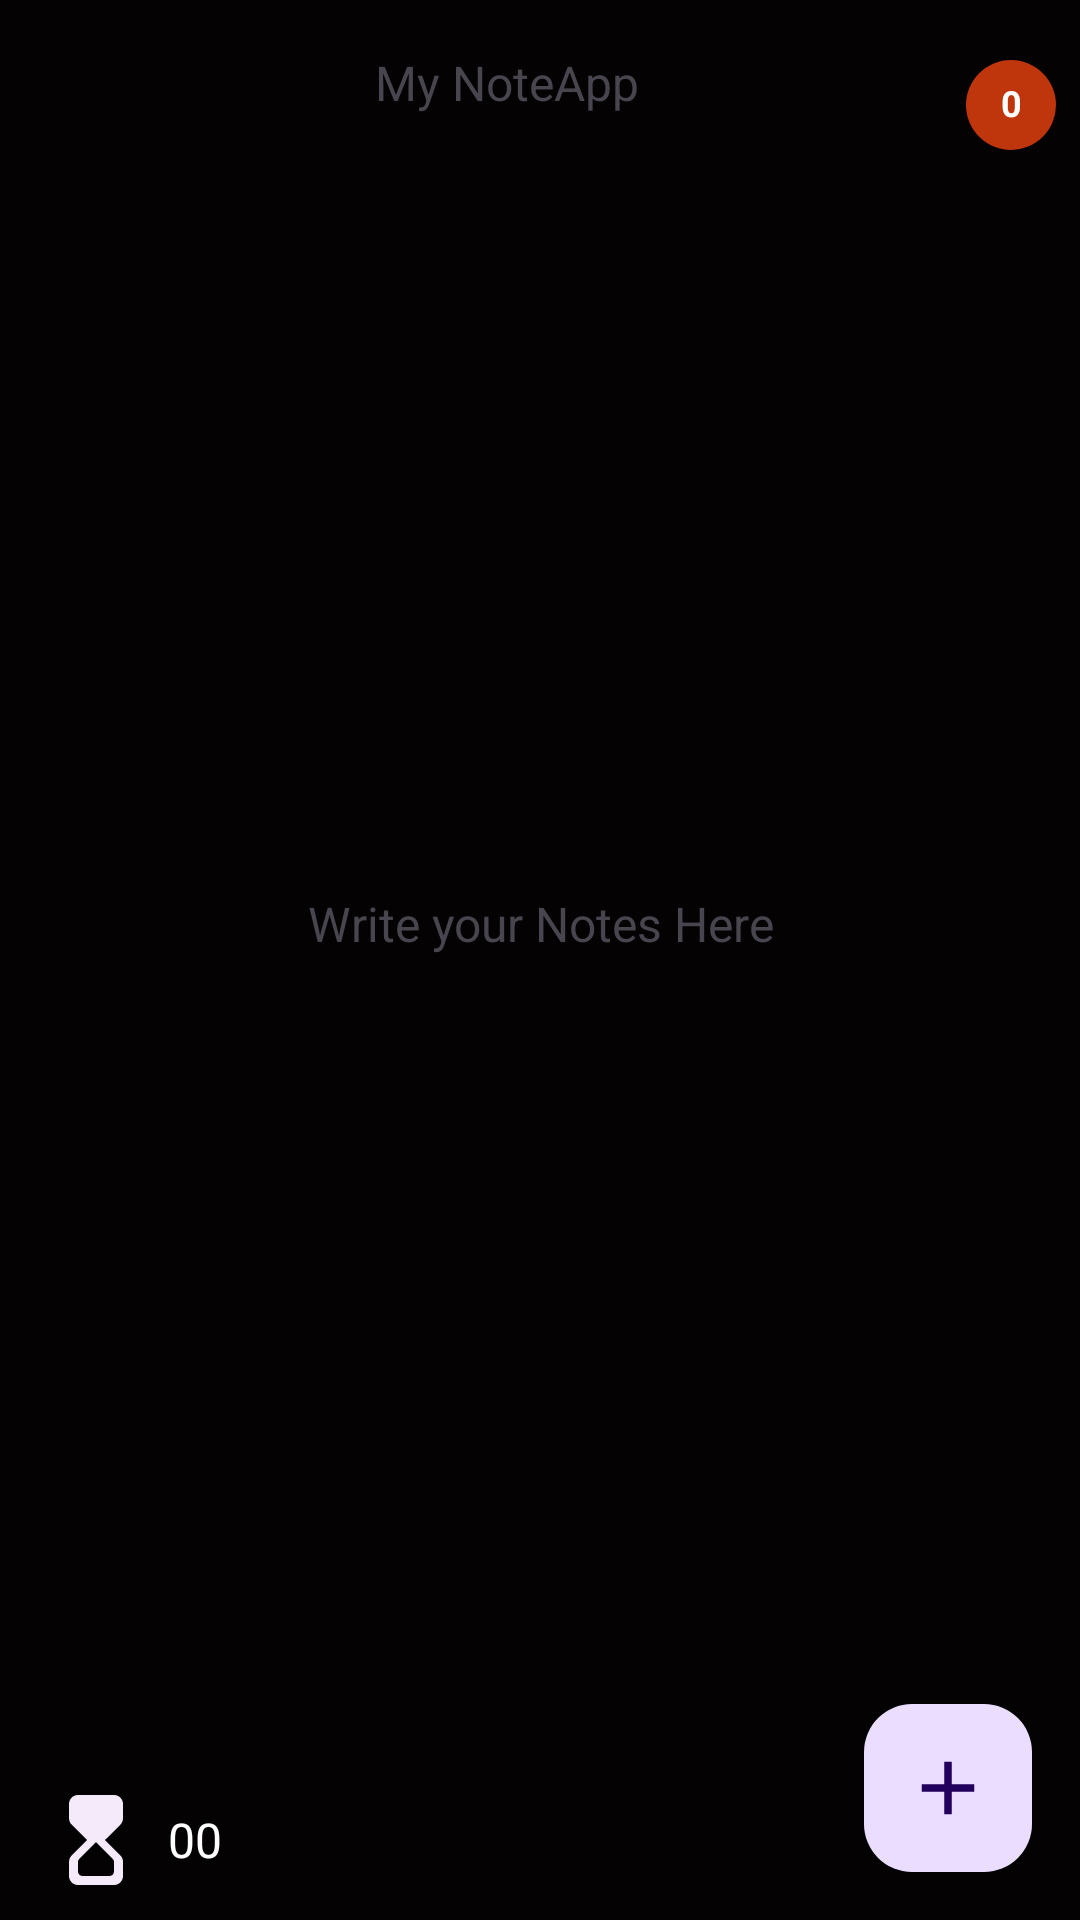

Screen size 1080x1920. Icon name, then its center in pixels as [x,y]:
add: [948,1788]
hourglass: [96,1840]
